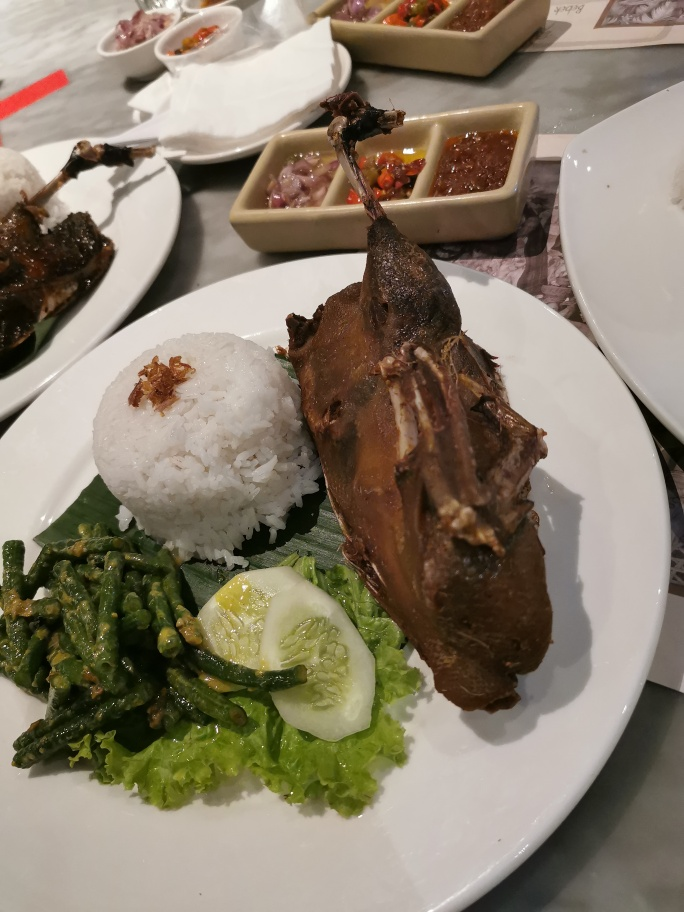bebek goreng: (297, 91, 564, 714)
nasi putih: (81, 317, 327, 566)
